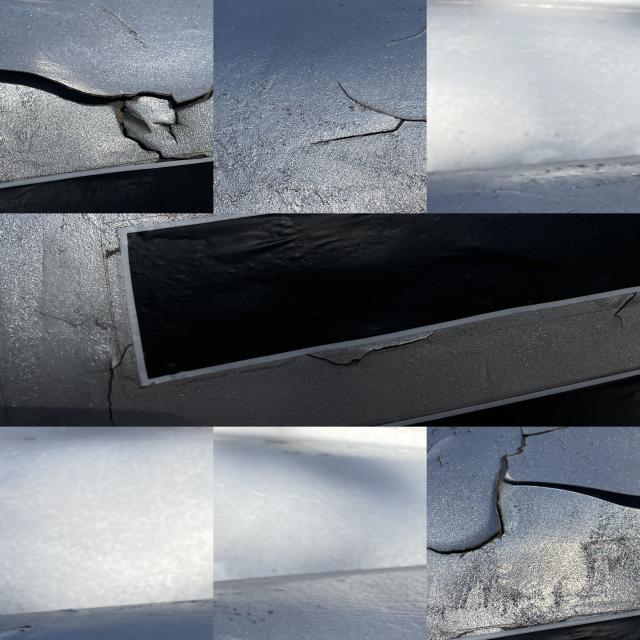dent: (455, 465, 636, 552), (19, 67, 206, 151), (293, 85, 431, 156)
